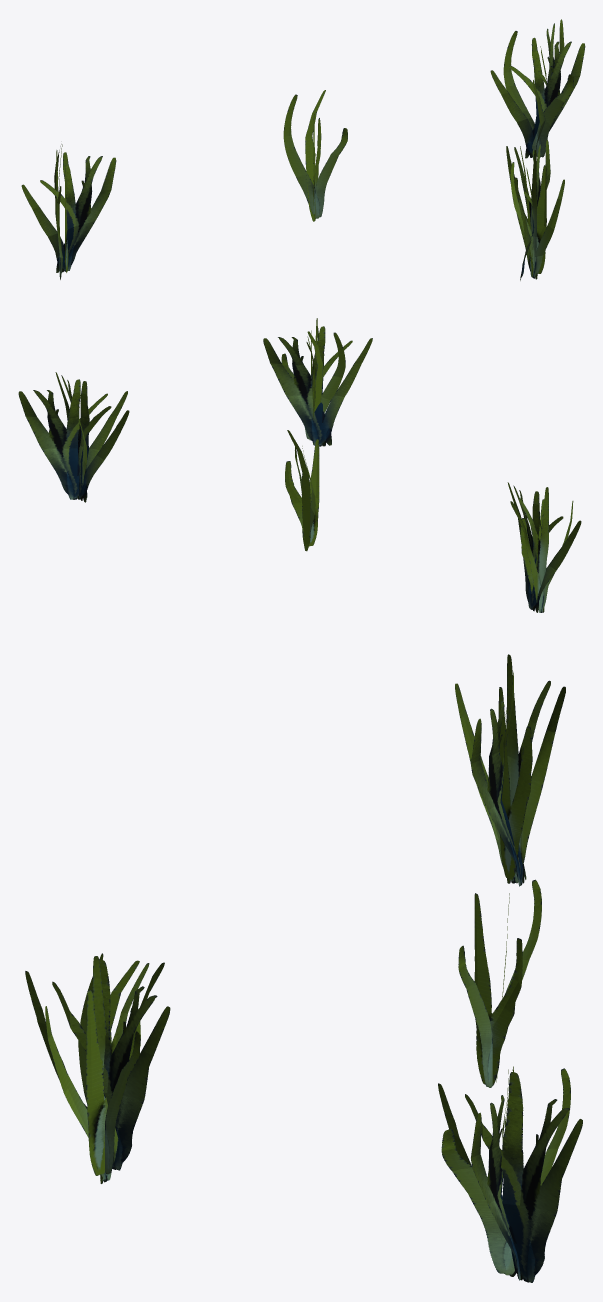
The model's file is Grass.fbx.
3 views of the same model, one above another, from view 1: azimuth 30°, elevation 25°; view 2: azimuth 150°, elevation 25°; view 3: azimuth 270°, elevation 25° (orthographic). The views are drawn at different scales.
Visible parts, largest first — view 1: Grass Bundle3, Grass Bundle1, GrassBundle4, Grass Bundle2; view 2: Grass Bundle3, GrassBundle4, Grass Bundle1, Grass Bundle2; view 3: Grass Bundle3, GrassBundle4, Grass Bundle1, Grass Bundle2.
Part boxes in pixels (<box>): Grass Bundle3: <box>490,19,585,158</box>; Grass Bundle1: <box>21,144,116,279</box>; GrassBundle4: <box>506,140,564,280</box>; Grass Bundle2: <box>283,90,347,221</box>; Grass Bundle3: <box>18,372,129,502</box>; GrassBundle4: <box>263,318,372,446</box>; Grass Bundle1: <box>507,482,581,612</box>; Grass Bundle2: <box>285,430,319,551</box>; Grass Bundle3: <box>438,1066,582,1282</box>; GrassBundle4: <box>25,953,170,1183</box>; Grass Bundle1: <box>455,654,565,886</box>; Grass Bundle2: <box>458,879,541,1087</box>.
Size of the model in its own units: 3822 by 904 by 1929.
